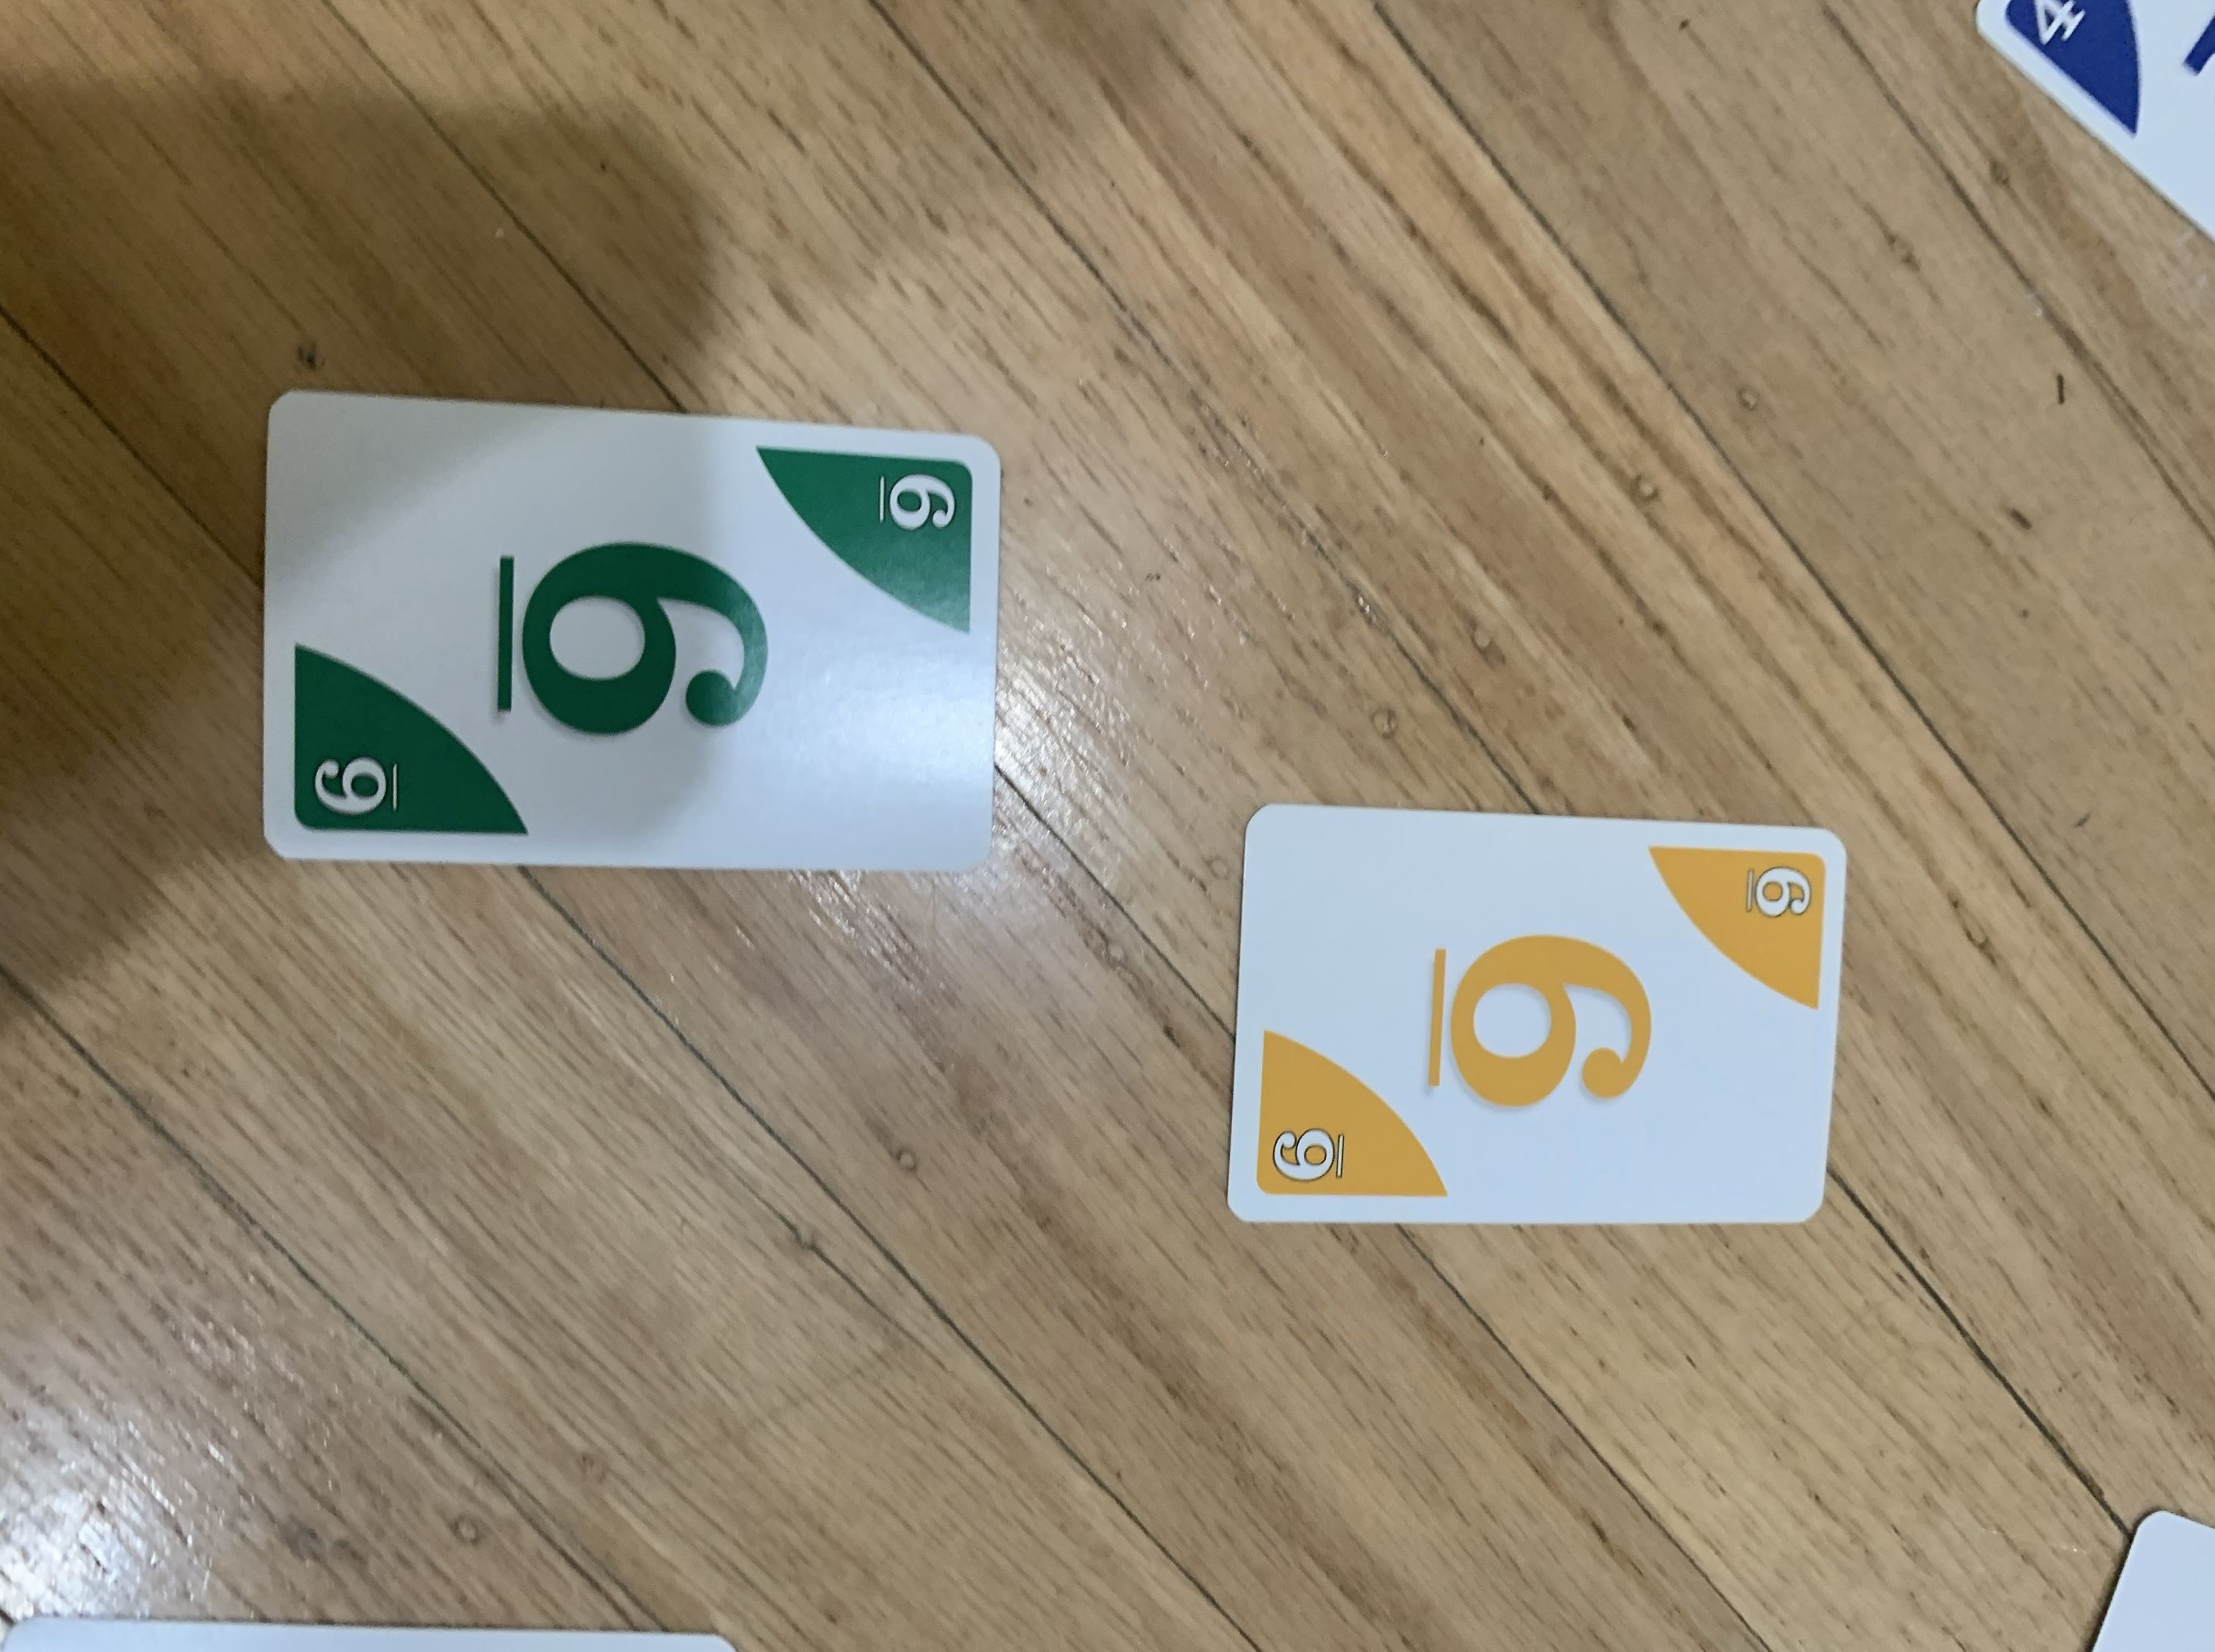six: (246, 385, 1007, 890), (1213, 798, 1852, 1234)
